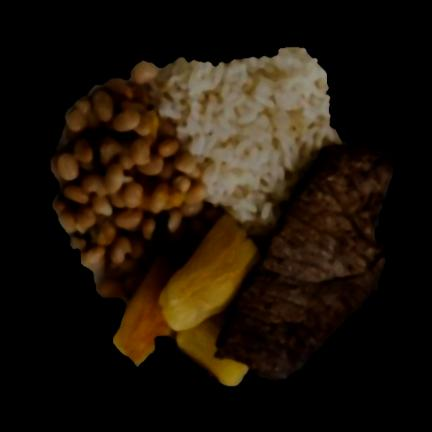beans: (52, 65, 218, 300)
cassava: (111, 212, 266, 387)
meat: (213, 147, 394, 378)
rice: (146, 53, 339, 237)
